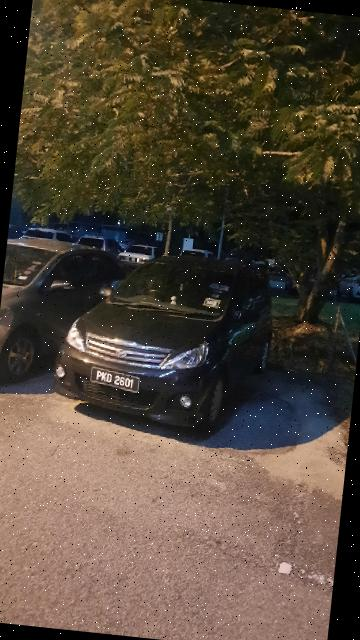License_Plate: (87, 364, 144, 395)
car: (49, 239, 287, 445)
